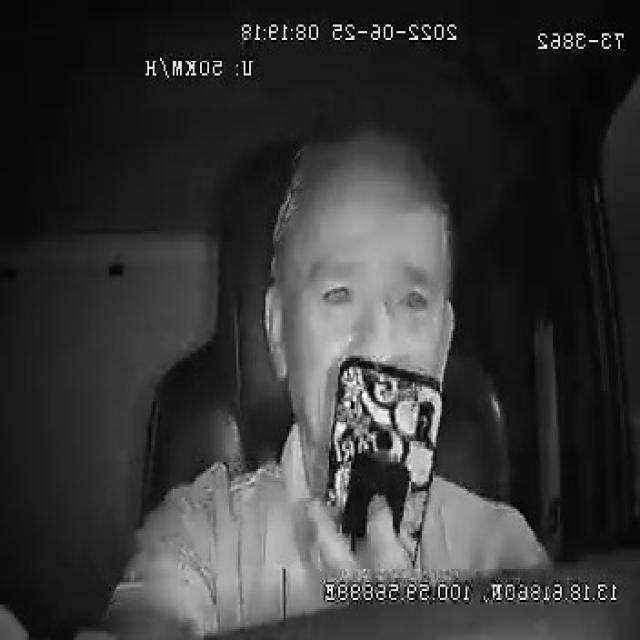phone: (322, 354, 447, 566)
